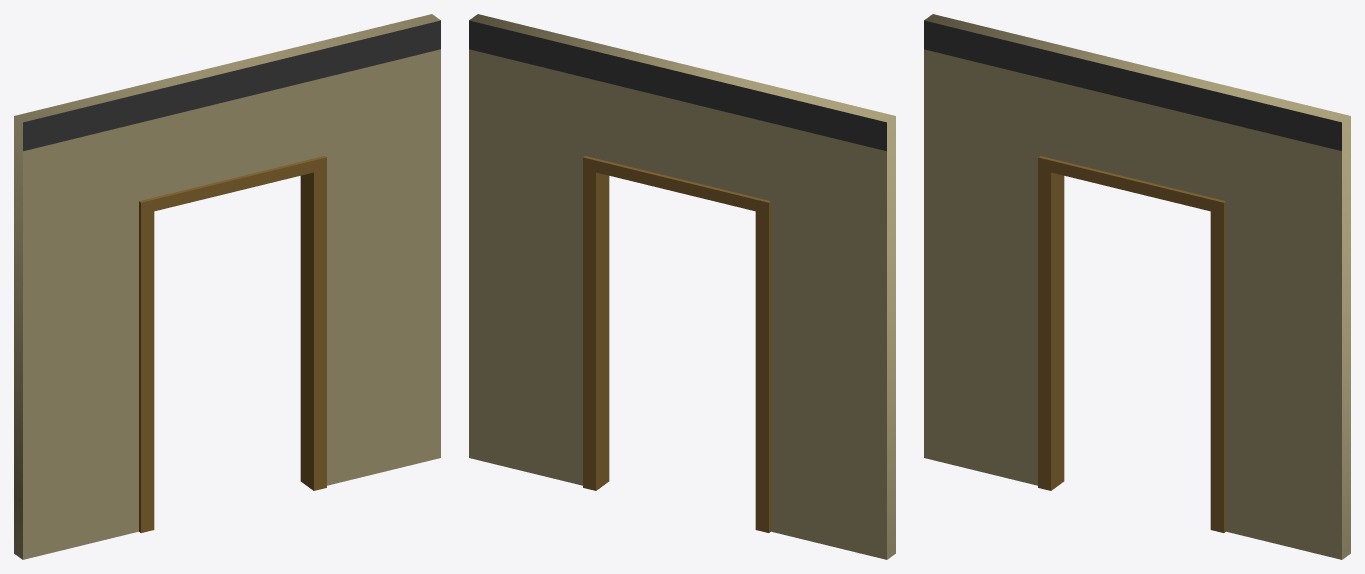
File: Office Wall Door.fbx
3 views of the same model, side by side, from view 1: azimuth 30°, elevation 25°; view 2: azimuth 150°, elevation 25°; view 3: azimuth 330°, elevation 25° (orthographic).
Visible parts, largest first — view 1: office_wall_door; view 2: office_wall_door; view 3: office_wall_door.
Part boxes in pixels (<box>): office_wall_door: <box>14,14,440,559</box>; office_wall_door: <box>469,14,895,559</box>; office_wall_door: <box>924,14,1350,559</box>.
Size of the model in its own units: 300 by 300 by 16.19.
